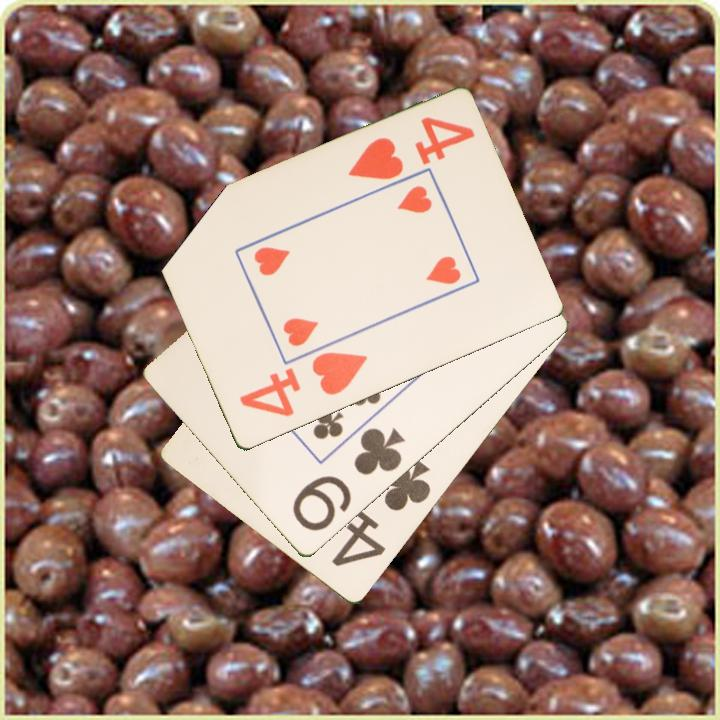4c: (328, 456, 434, 571)
4h: (235, 348, 371, 421), (344, 113, 478, 184)
9c: (288, 424, 408, 535)
